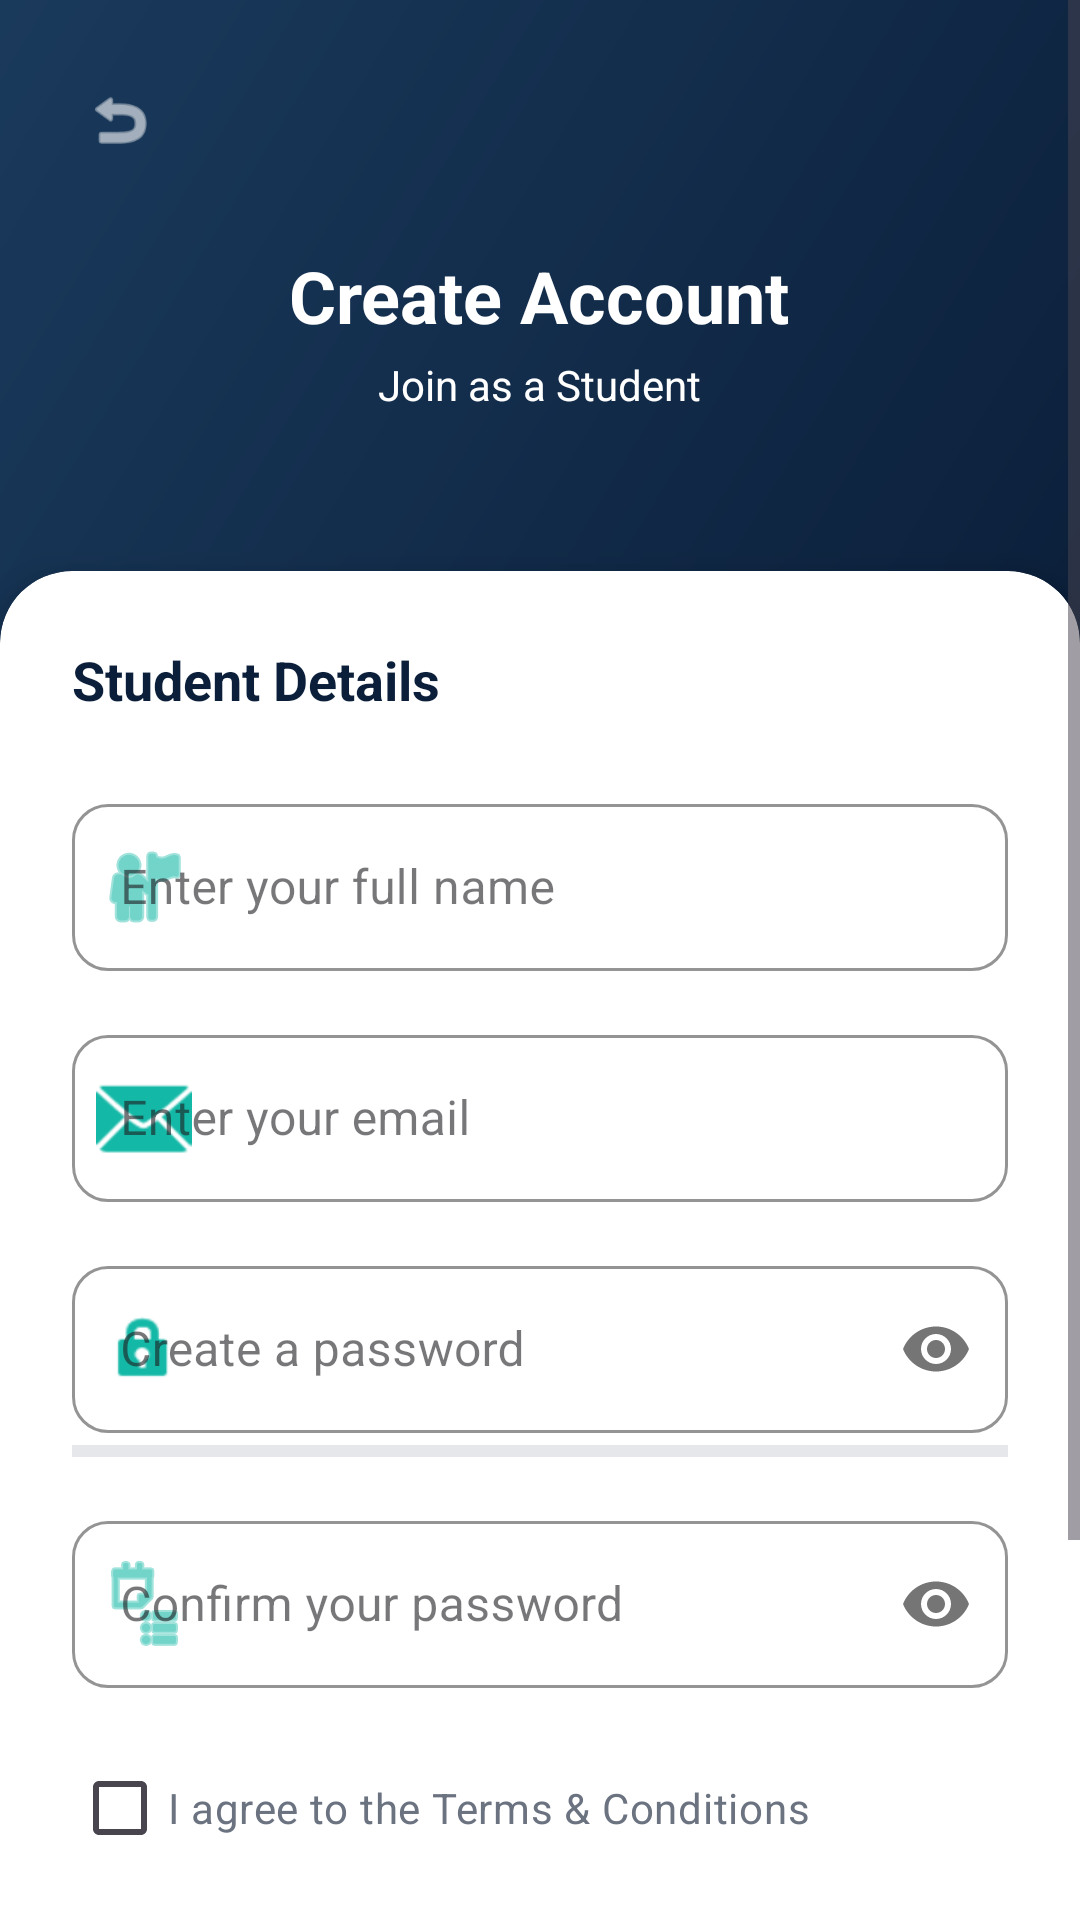

Icon click points for this 1080px x 1920px phone screenshot, format (x,y):
revert: (121,120)
